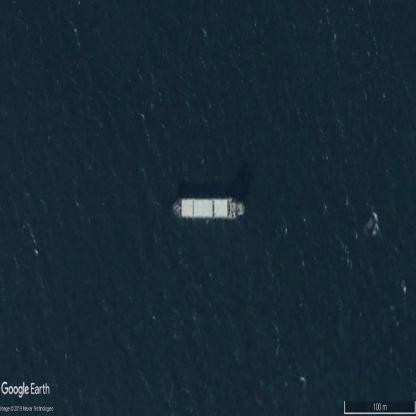ship: (172, 197, 245, 219)
